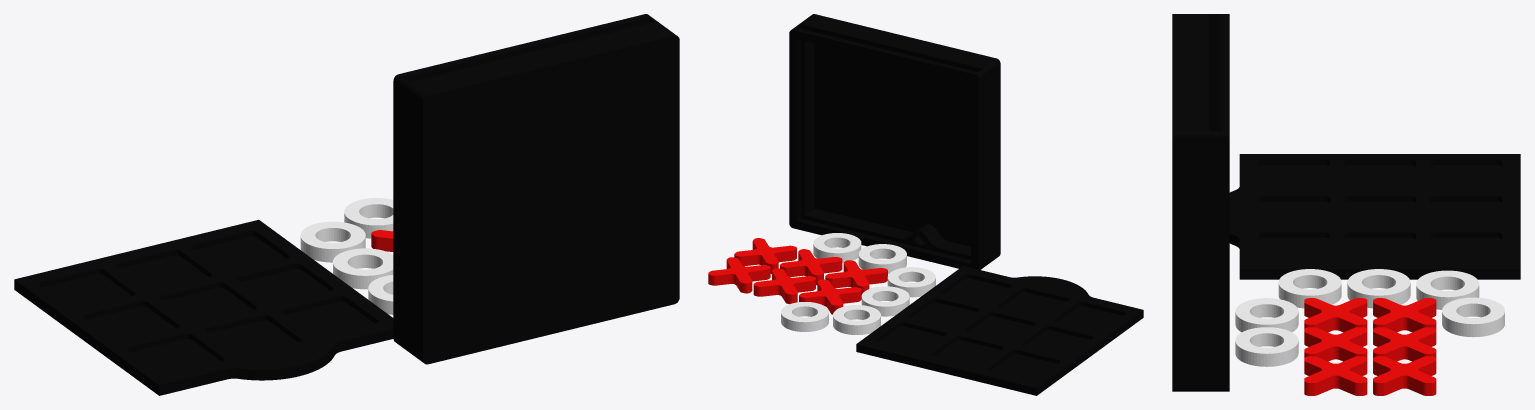
Rendered from tictactoe.glb.
3 views of the same model, side by side, from view 1: azimuth 30°, elevation 25°; view 2: azimuth 150°, elevation 25°; view 3: azimuth 270°, elevation 25° (orthographic). The views are drawn at different scales.
Parts seen in each view (by area): view 1: Morpion de voyage boite.stl_fil3, Morpion de voyage couvercle.stl_fil3, Morpion de voyage rond_.stl_fil1 (×4); view 2: Morpion de voyage boite.stl_fil3, Morpion de voyage couvercle.stl_fil3, Morpion de voyage croix.stl_fil2 (×6), Morpion de voyage rond_.stl_fil1 (×6); view 3: Morpion de voyage couvercle.stl_fil3, Morpion de voyage boite.stl_fil3, Morpion de voyage croix.stl_fil2 (×6), Morpion de voyage rond_.stl_fil1 (×6).
Part boxes in pixels (x1,y1,x2,y2): Morpion de voyage boite.stl_fil3: [393, 14, 679, 364]; Morpion de voyage couvercle.stl_fil3: [14, 219, 393, 395]; Morpion de voyage rond_.stl_fil1 (×4): [300, 198, 393, 314]; Morpion de voyage boite.stl_fil3: [789, 14, 1000, 269]; Morpion de voyage couvercle.stl_fil3: [856, 266, 1143, 395]; Morpion de voyage croix.stl_fil2 (×6): [708, 238, 887, 314]; Morpion de voyage rond_.stl_fil1 (×6): [781, 233, 935, 334]; Morpion de voyage couvercle.stl_fil3: [1229, 154, 1520, 279]; Morpion de voyage boite.stl_fil3: [1172, 14, 1229, 391]; Morpion de voyage croix.stl_fil2 (×6): [1304, 298, 1436, 395]; Morpion de voyage rond_.stl_fil1 (×6): [1235, 269, 1504, 366].
Bounding box in the file's own units: 0.1913 × 0.1 × 0.1214.
